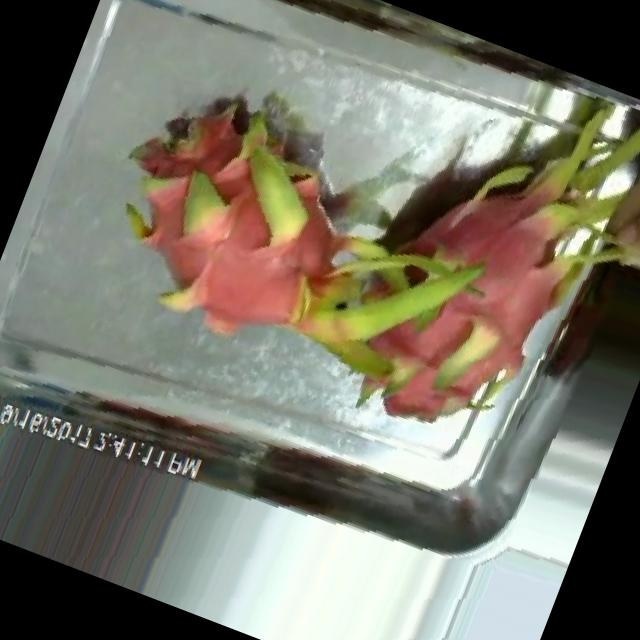Fruit: (586, 118, 640, 306)
